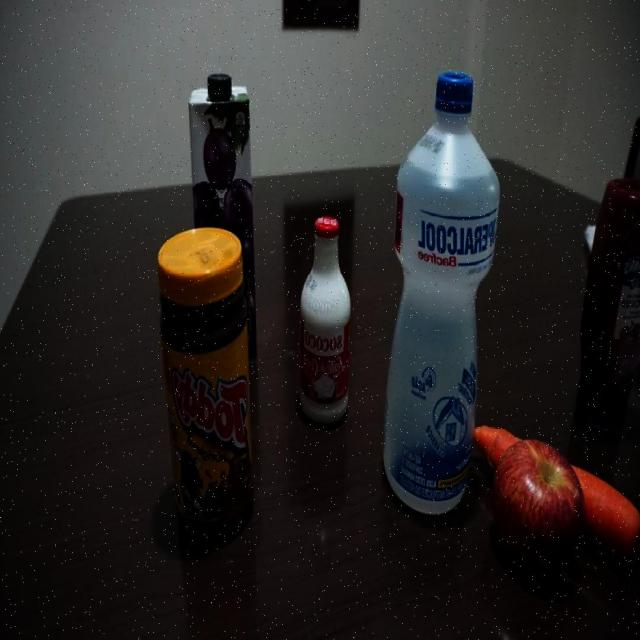AlcoholBottle: (380, 72, 501, 519)
Carrot: (585, 468, 639, 568)
ChocolatePowder: (155, 227, 254, 546)
CoconutMilk: (297, 216, 353, 433)
Ketchup: (571, 168, 640, 442)
